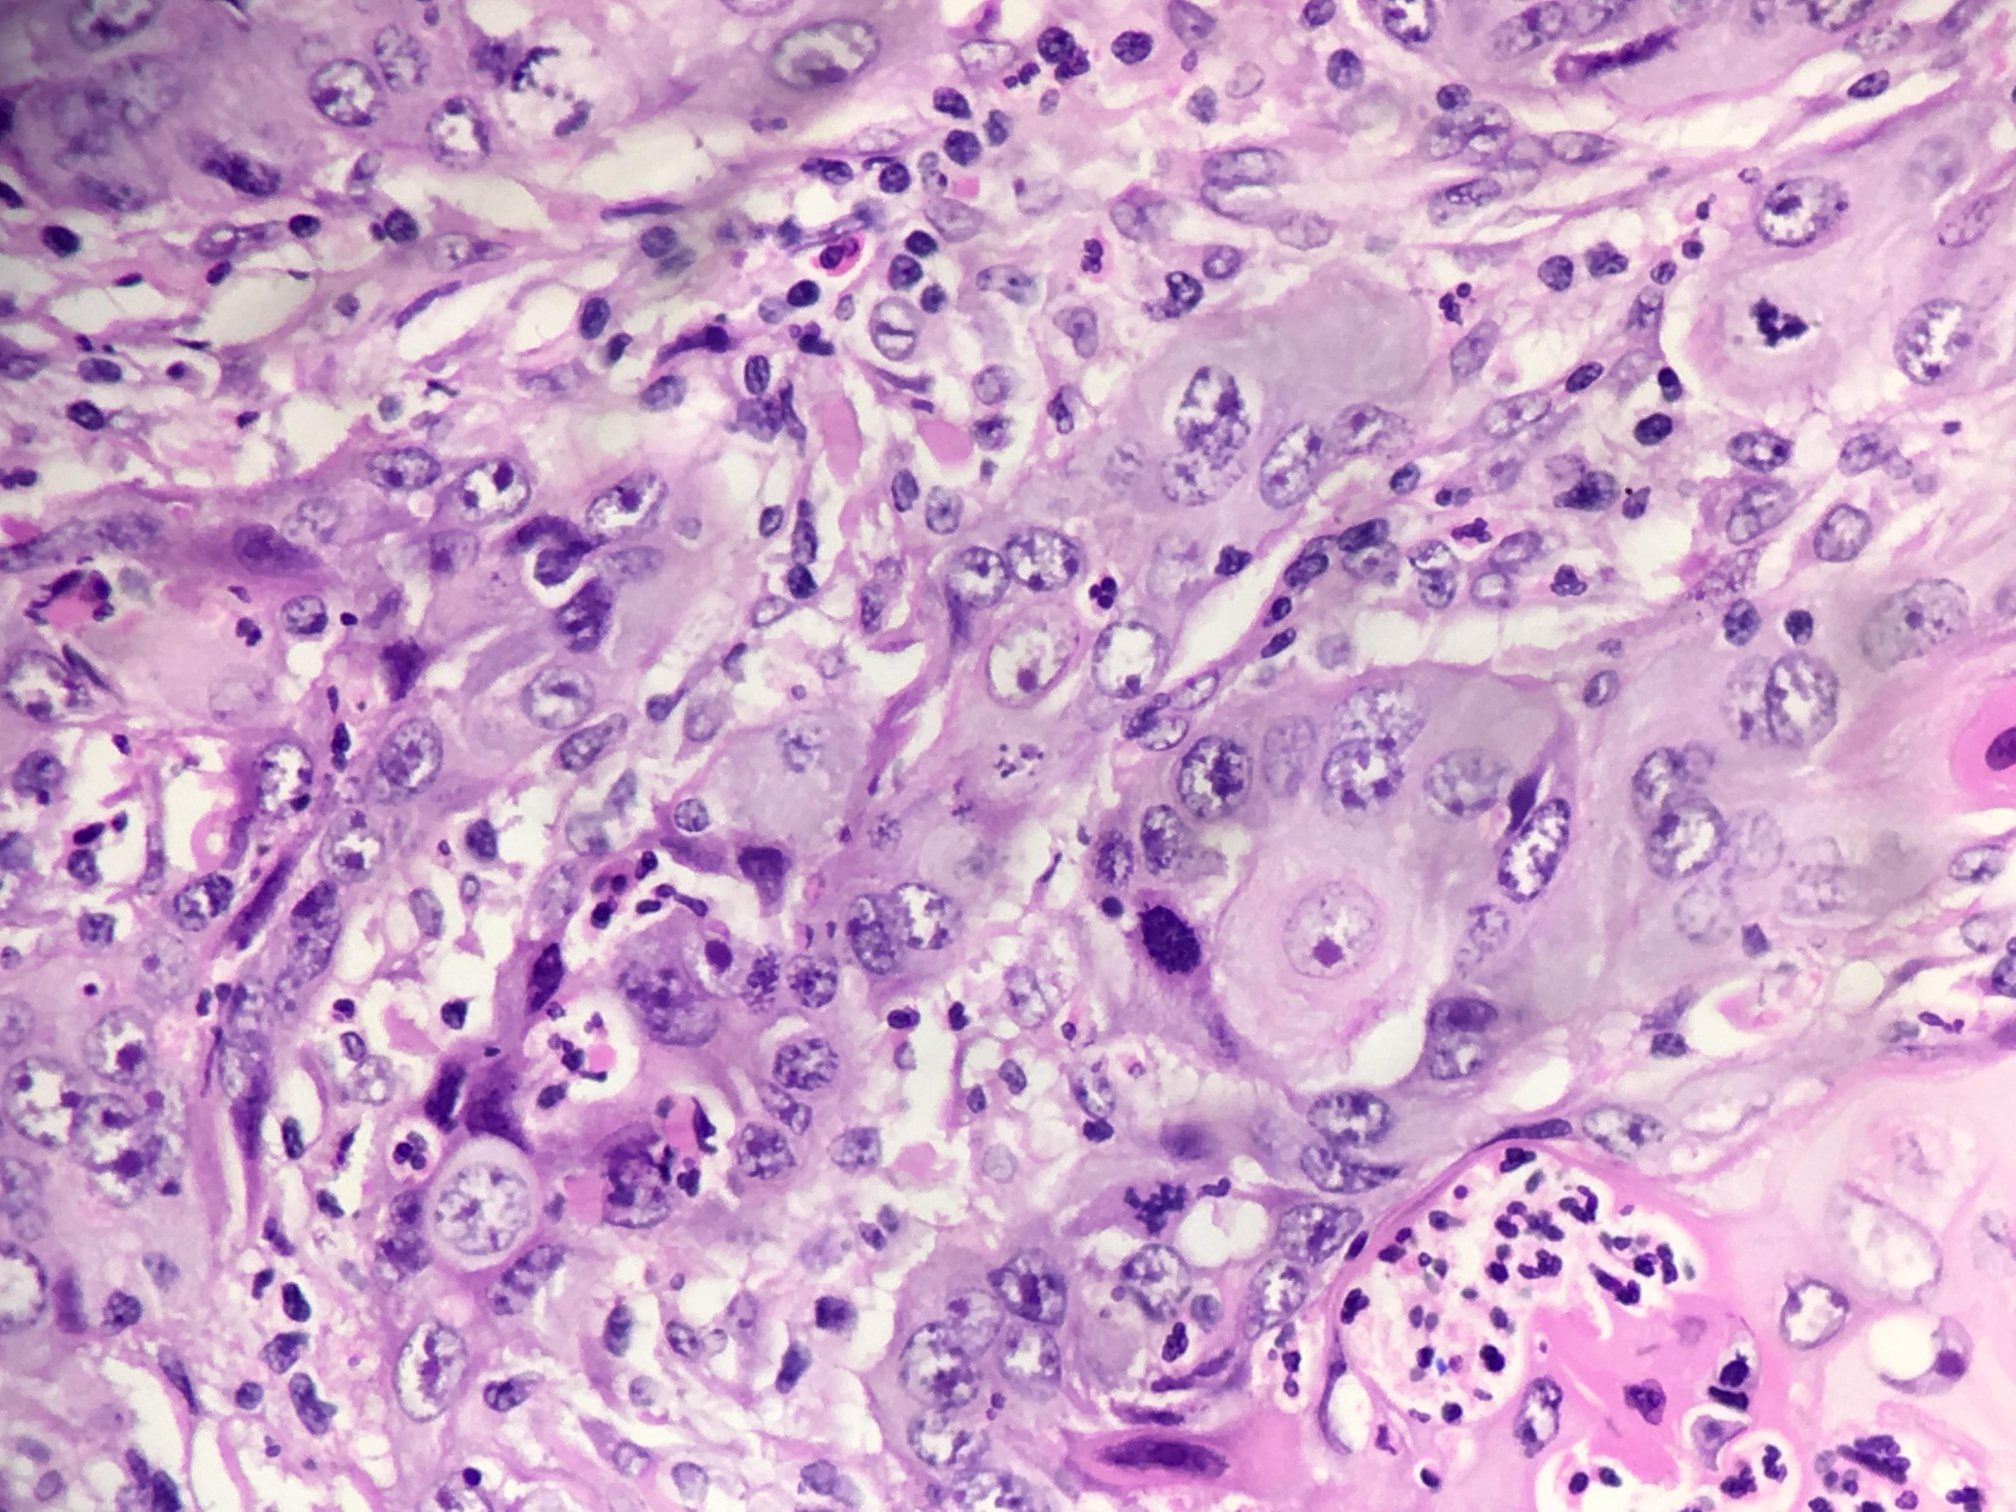mitotic: (1095, 1153, 1233, 1271), (1703, 260, 1830, 383), (1103, 886, 1222, 996)
